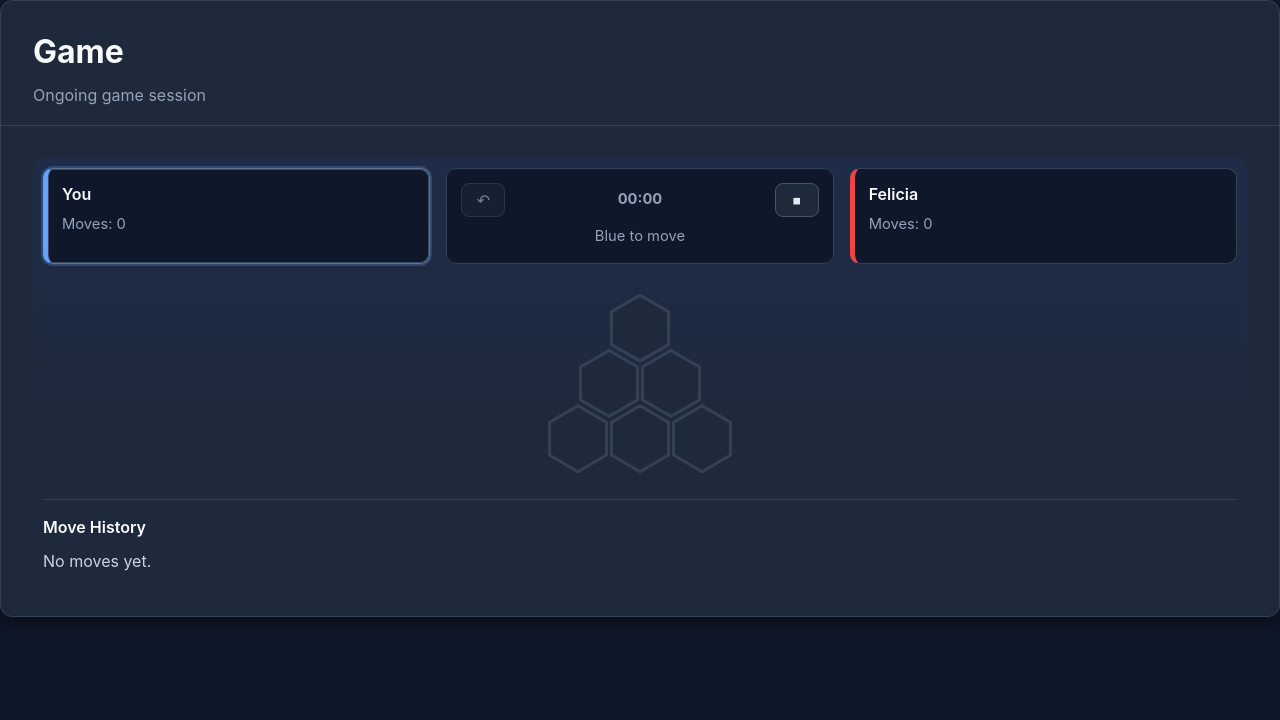
Test: GamePage — move › clicking a hex adds a move to history
Step 1. Click the button named "Hex (2, 0, 0)" → (640, 328), box [610,294,670,363]
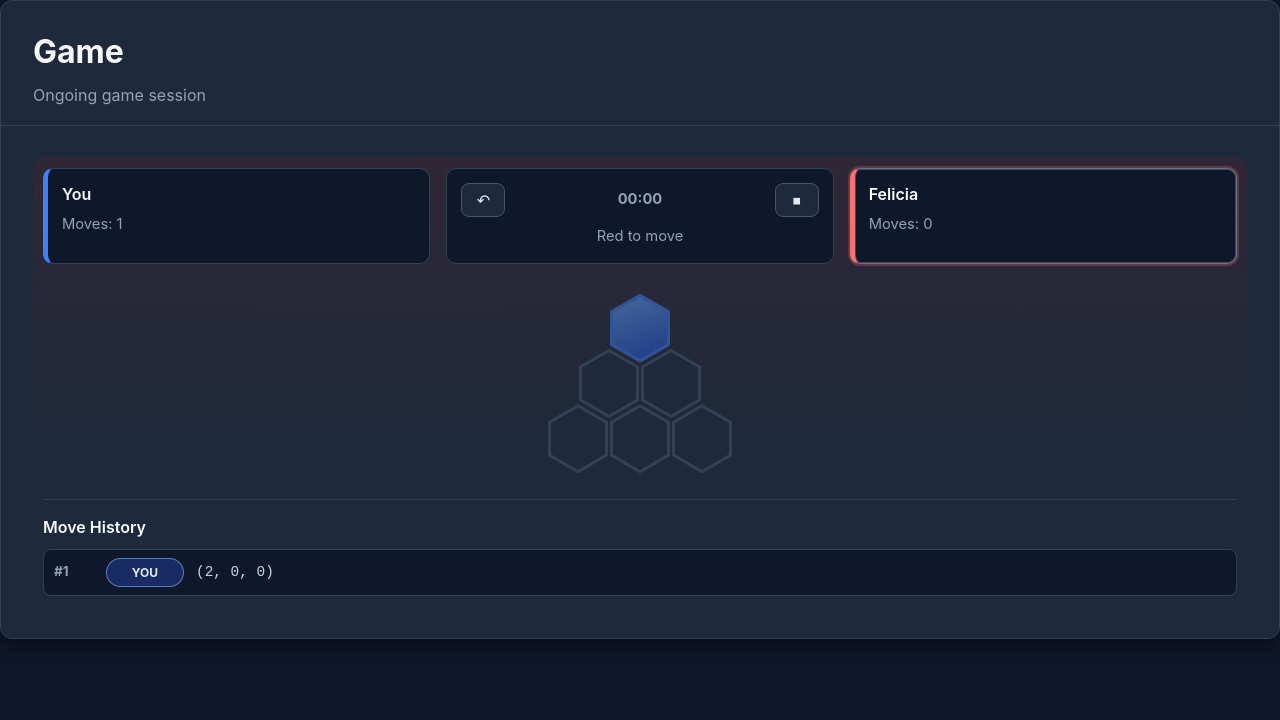
Expected: the text "#1" is shown, [54,564,69,580]
